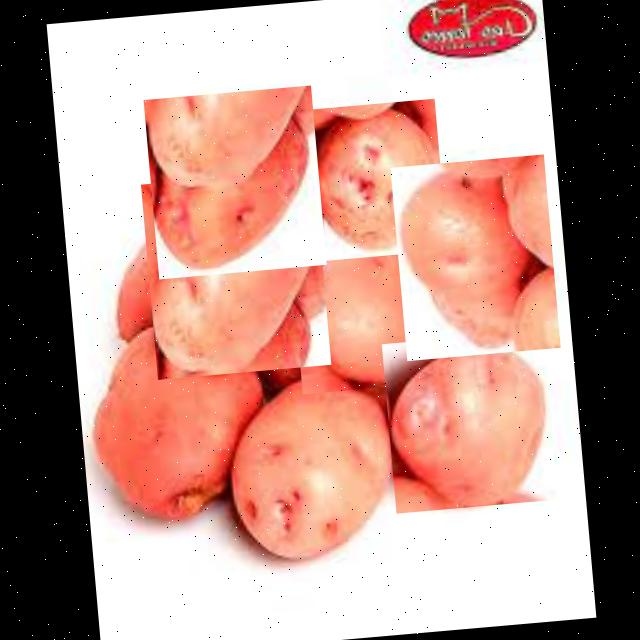Defected potato: (140, 168, 330, 378), (218, 372, 404, 566), (142, 84, 325, 278), (389, 153, 559, 360), (380, 329, 556, 512), (288, 234, 452, 393), (299, 97, 446, 260)
